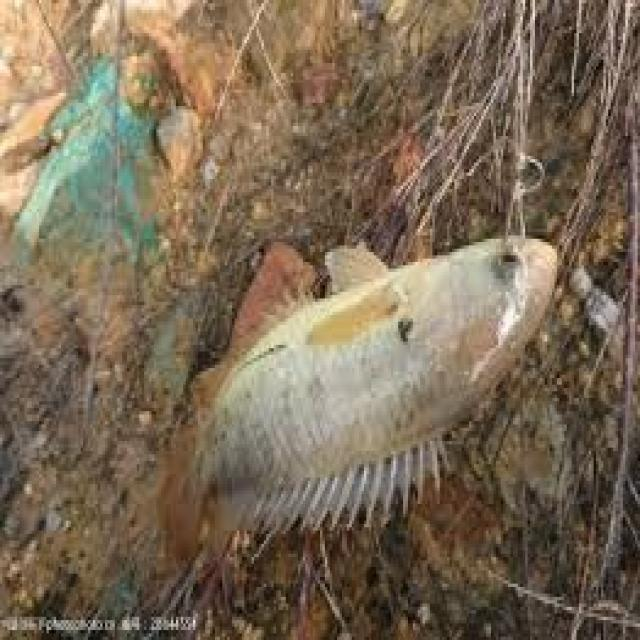Climbing-Perch: (165, 221, 576, 577)
